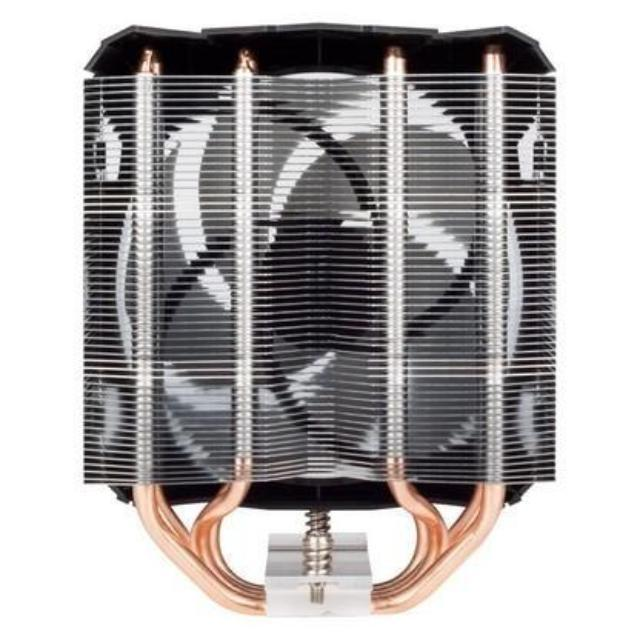CPU_Fan: (82, 19, 560, 610)
